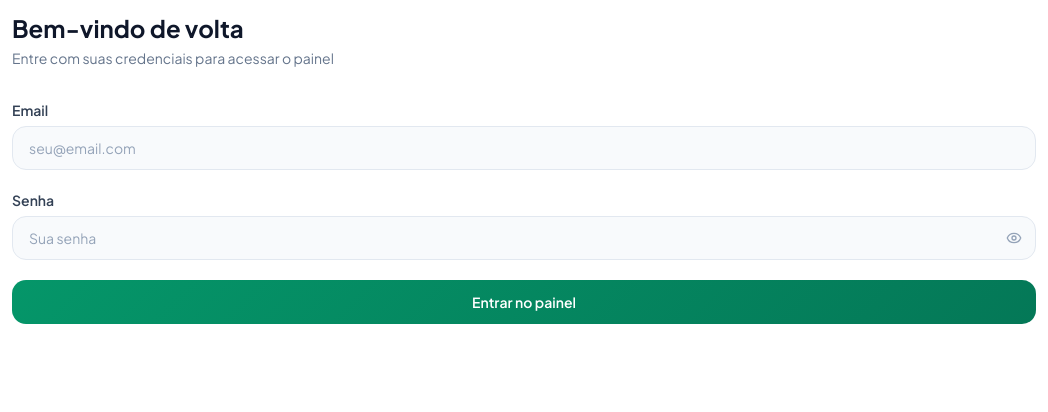
Test: LoginForm › shows error when login fails
Type "bad@test.com" into the field labelled "Email". click: [524, 148]
box: [12,126,1036,170]
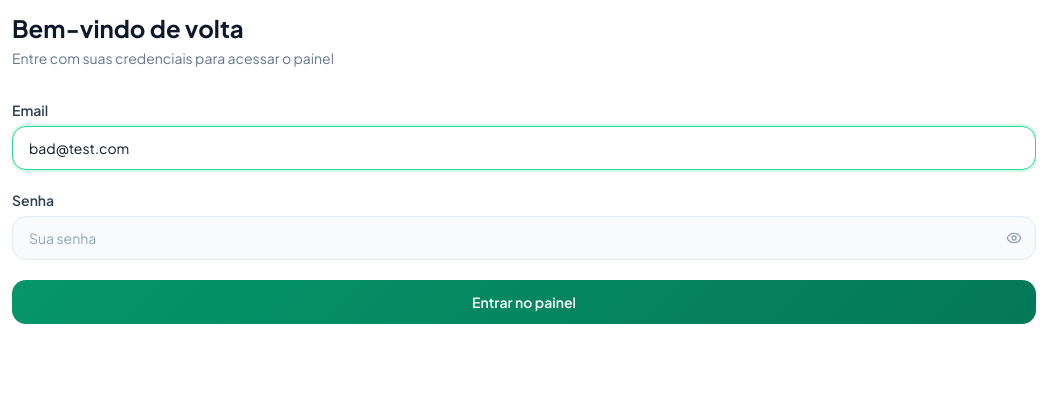
Type "wrong" into the password field labelled "Senha". click: [524, 238]
box: [12,216,1036,260]
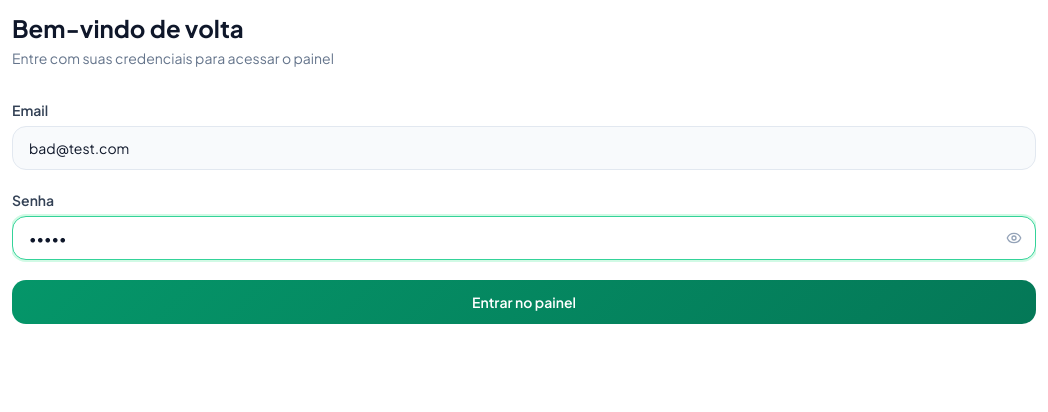
Click the button "Entrar no painel". click: [524, 302]
box: [12,280,1036,324]
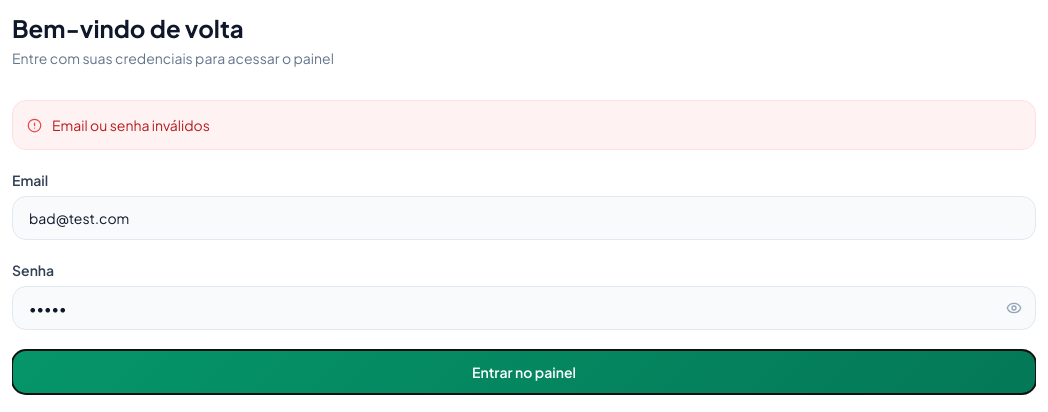
Now the text "Email ou senha inválidos" is shown, box [12,100,1036,150]
